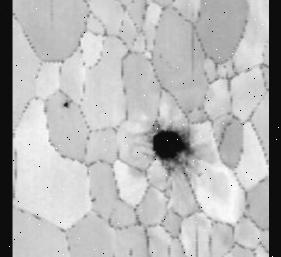good_void: (150, 129, 197, 173), (61, 100, 70, 108), (88, 196, 96, 204)
